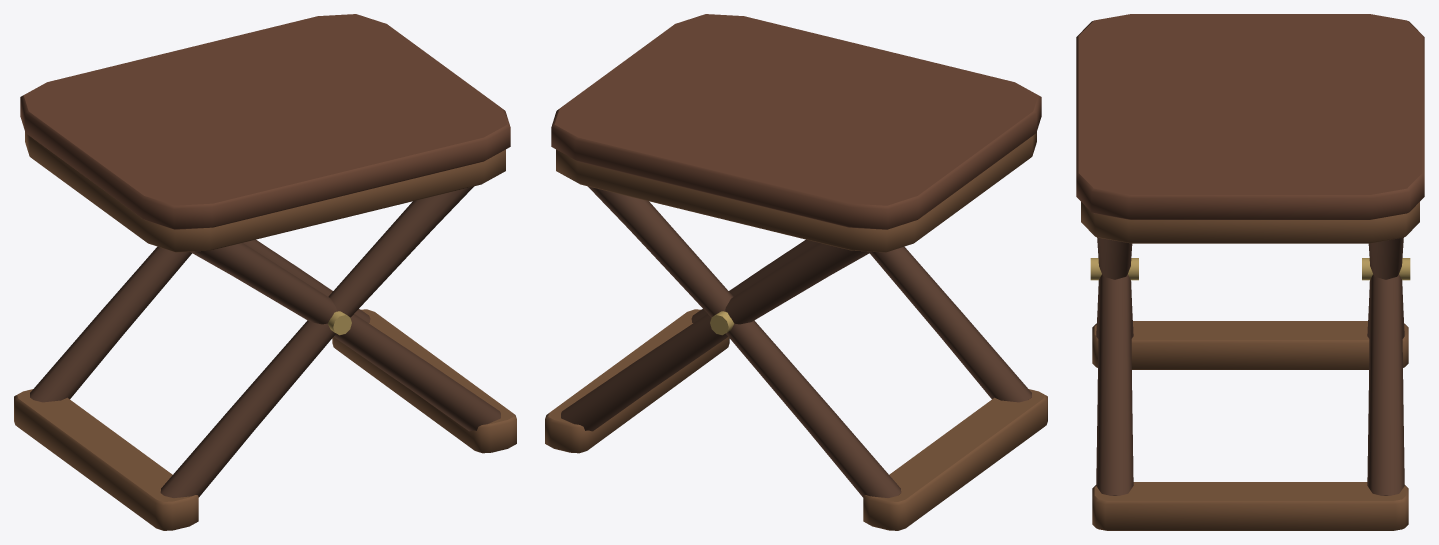
Rendered from rpg-mansion-x-stool-01.glb.
3 renders of one model, left to right at view 1: azimuth 30°, elevation 25°; view 2: azimuth 150°, elevation 25°; view 3: azimuth 270°, elevation 25°, orthographic. The views are drawn at different scales.
Visible parts, largest first — view 1: rpg-mansion-x-stool-01; view 2: rpg-mansion-x-stool-01; view 3: rpg-mansion-x-stool-01.
Boxes of the visible parts, left/top/right/bottom form: rpg-mansion-x-stool-01: left=14, top=14, right=516, bottom=530; rpg-mansion-x-stool-01: left=545, top=14, right=1047, bottom=530; rpg-mansion-x-stool-01: left=1076, top=14, right=1424, bottom=530.
Bounding box in the file's own units: 0.537 × 0.46 × 0.432.
